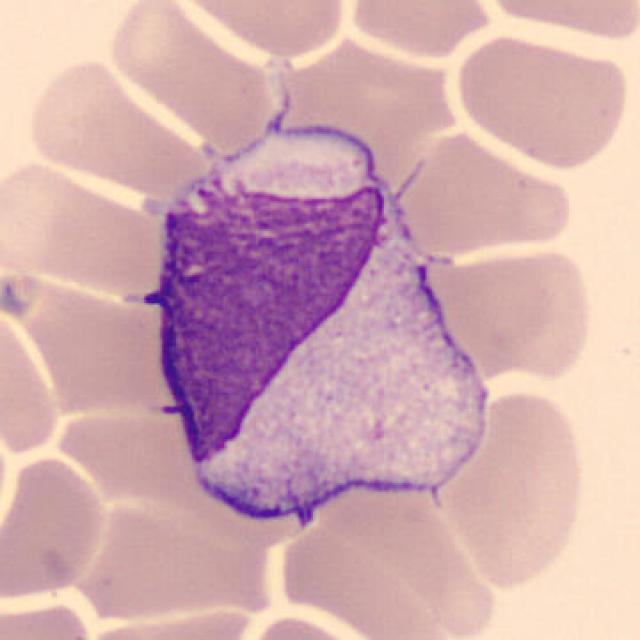Lymphocyte: (130, 150, 483, 538)
RBC: (151, 232, 507, 540), (430, 384, 592, 591), (281, 500, 493, 640), (100, 3, 270, 152), (452, 30, 631, 171), (384, 127, 574, 259), (0, 263, 163, 416), (31, 59, 193, 208), (0, 157, 171, 296), (416, 240, 576, 370), (0, 451, 110, 605), (486, 245, 598, 383), (172, 0, 350, 58), (347, 0, 498, 60), (74, 603, 260, 640), (478, 0, 638, 42), (0, 596, 96, 640), (236, 612, 368, 640)
